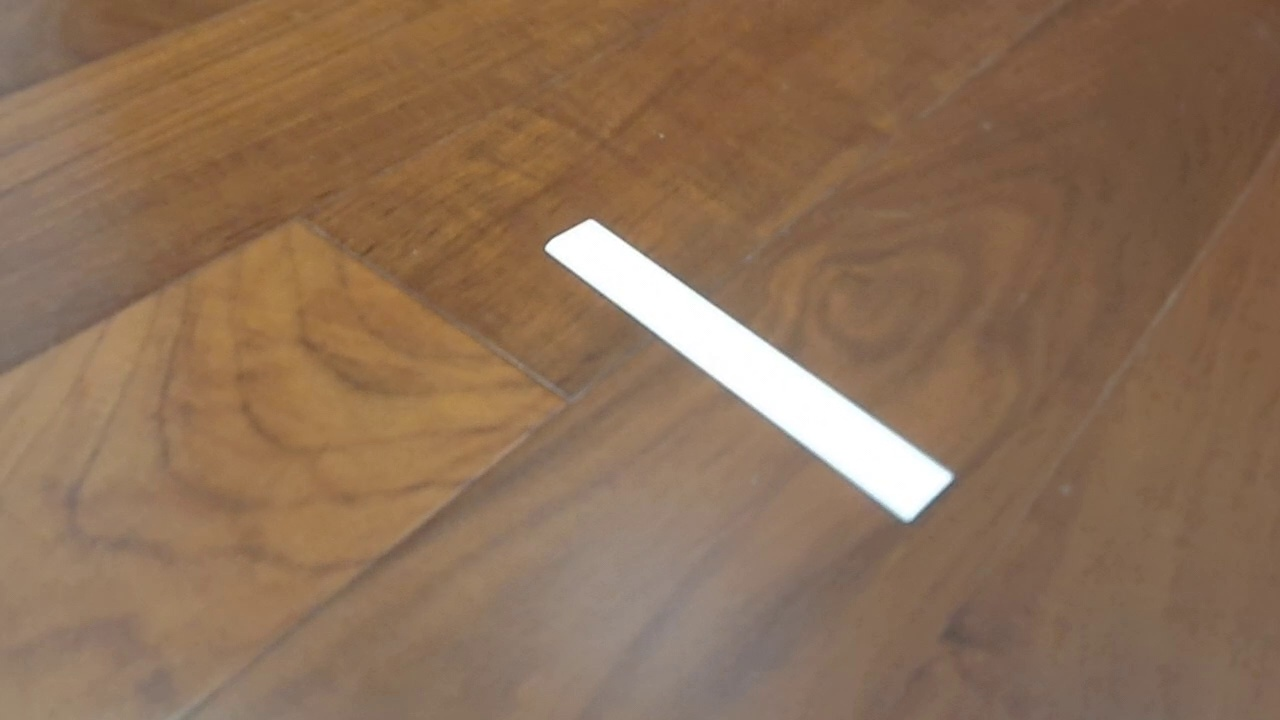ruler: (542, 216, 958, 526)
